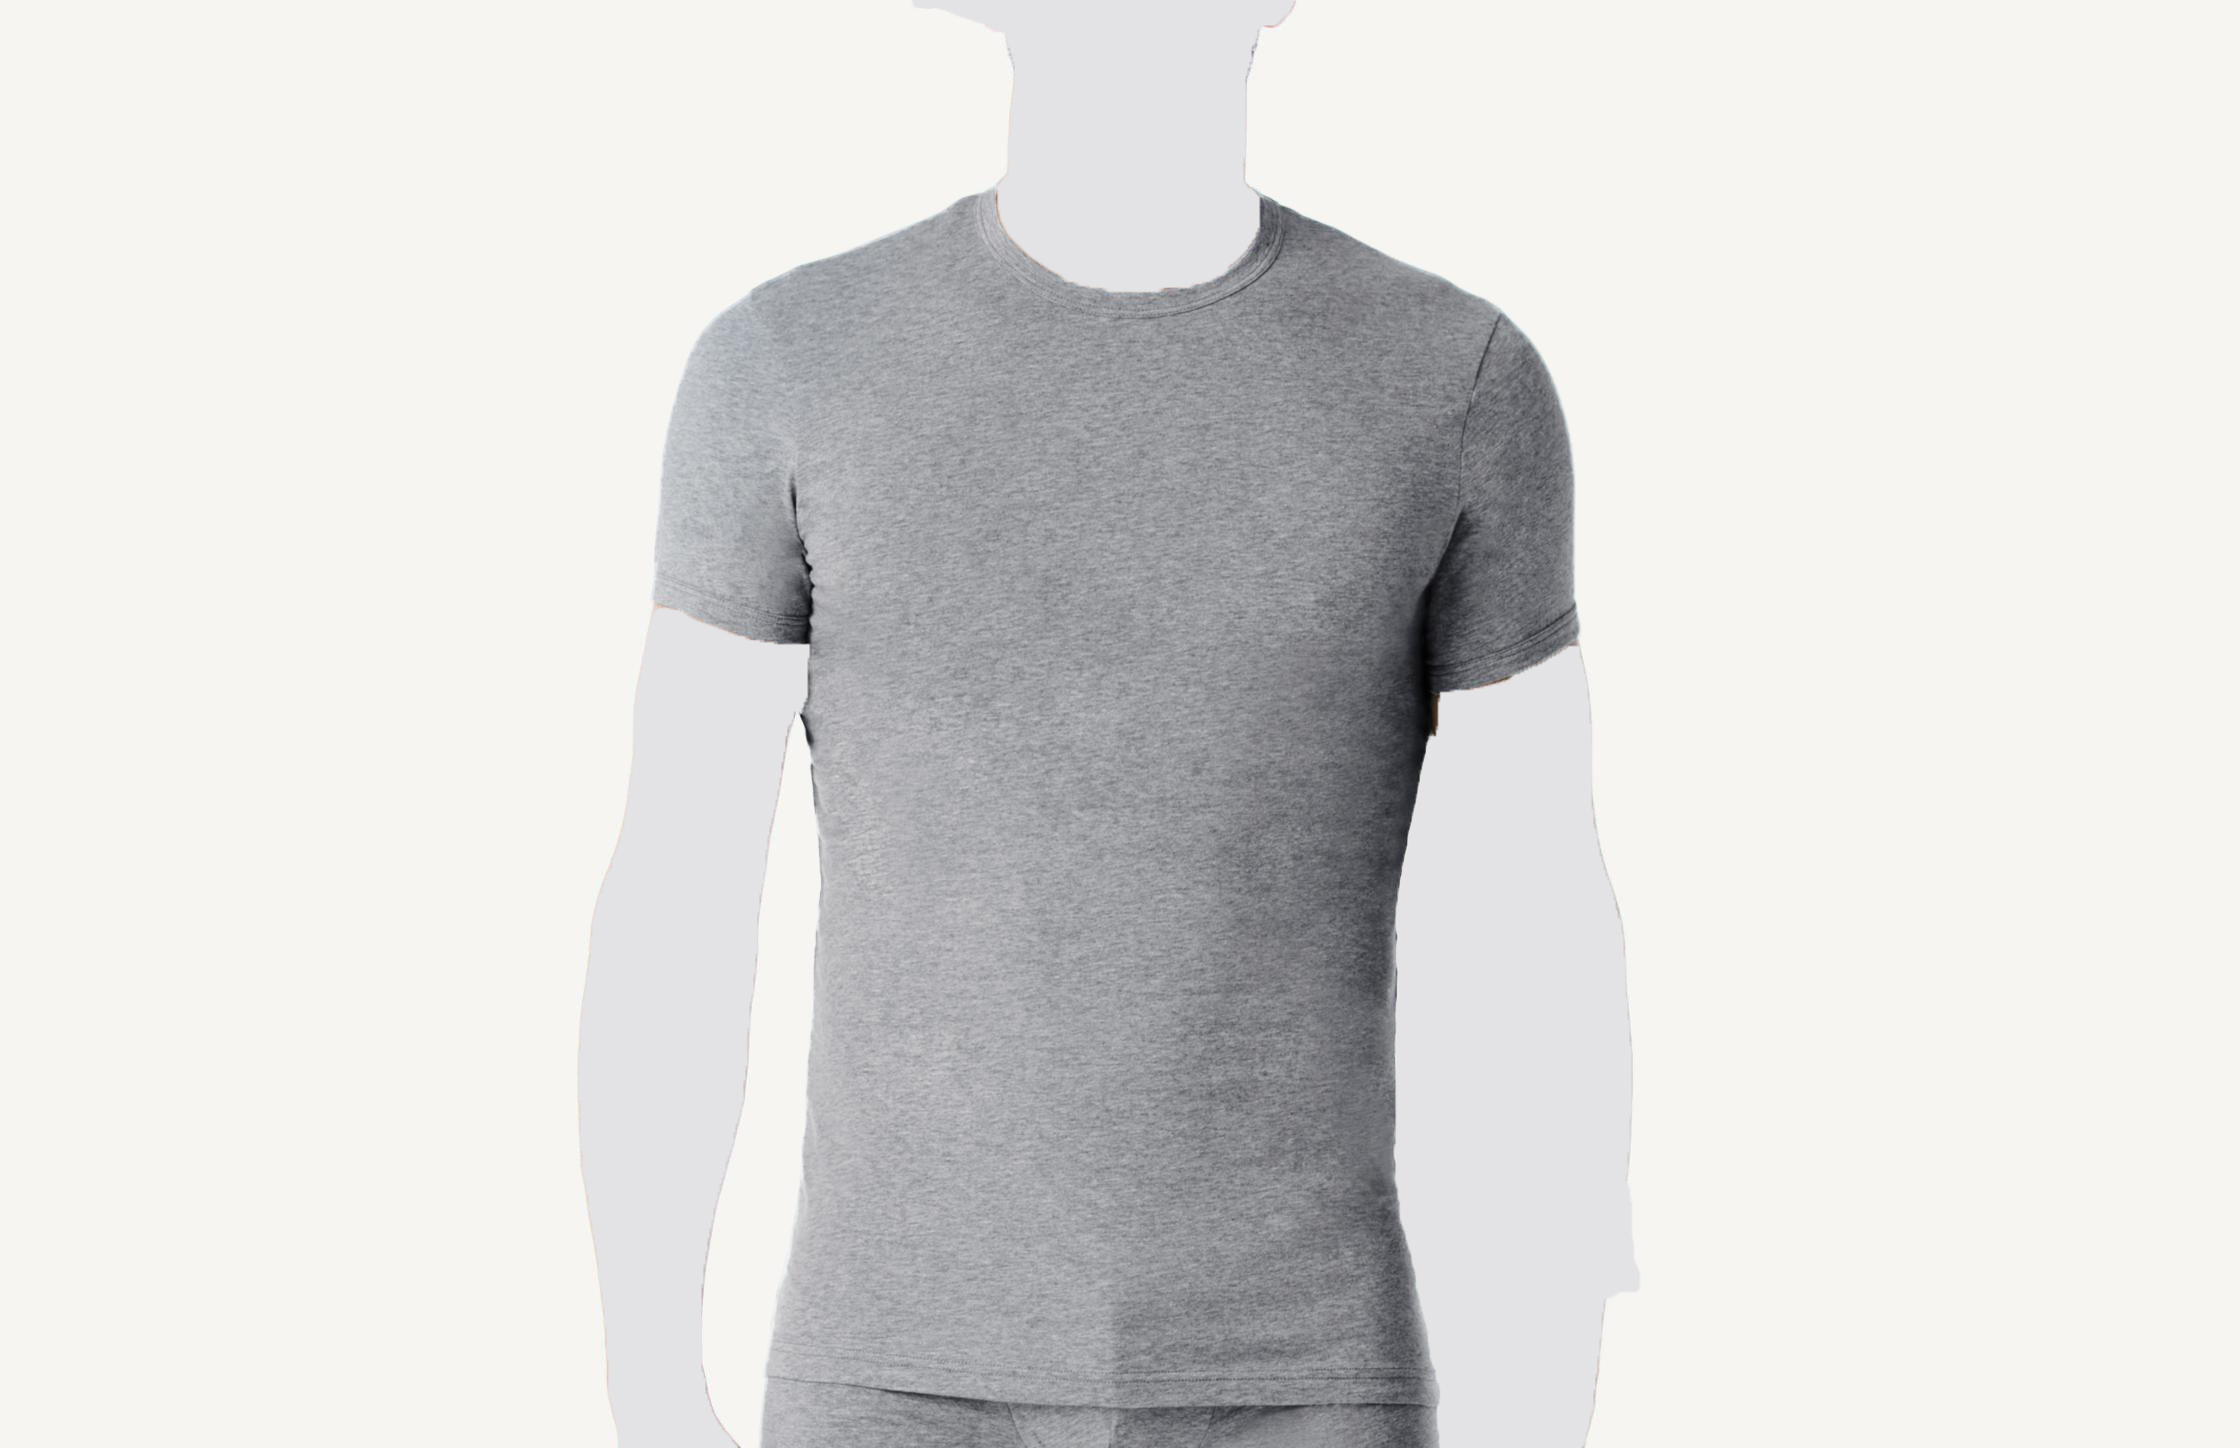teeshirt: (642, 184, 1600, 1401)
